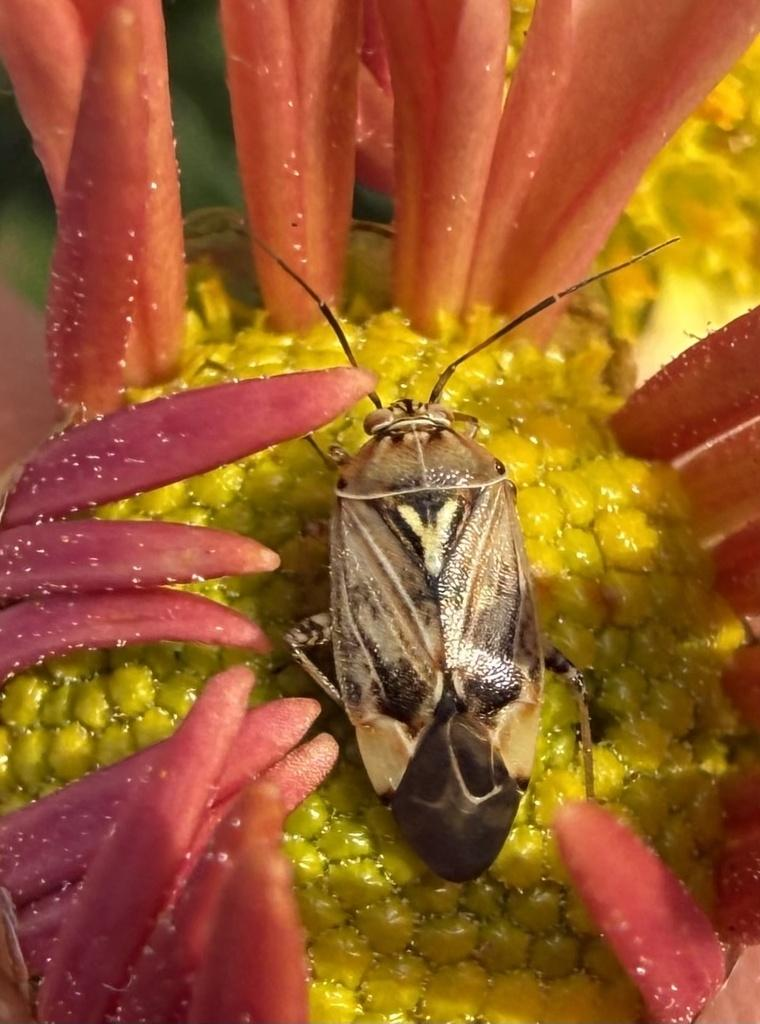plant_bugs: (163, 223, 733, 957)
